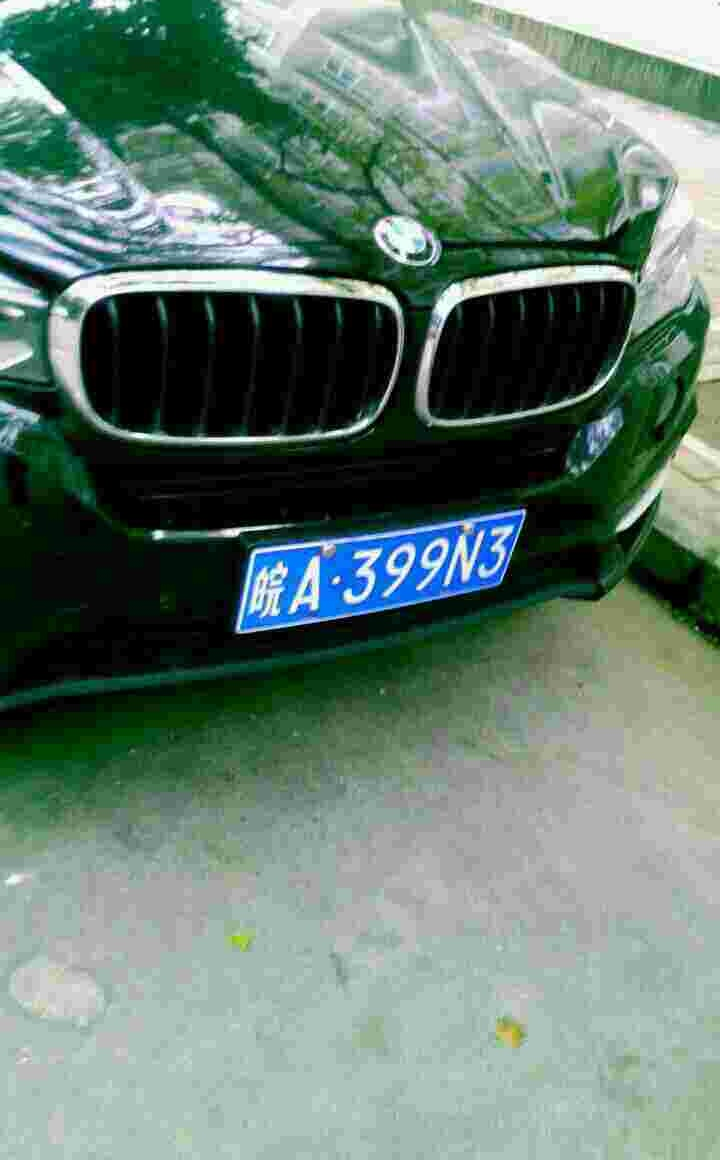license_plate: (247, 507, 524, 639)
